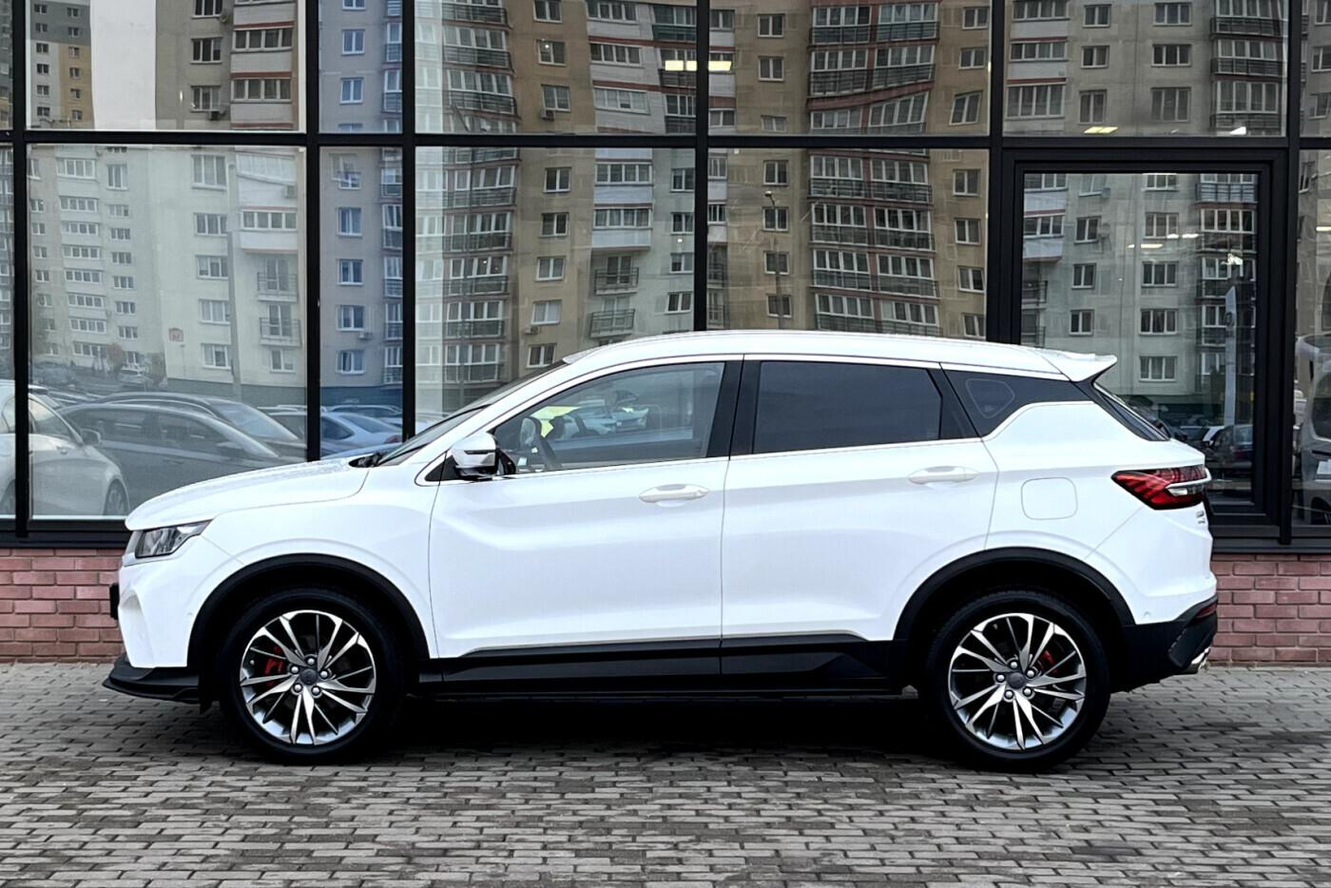Coolray_2019-2023: (89, 326, 1219, 771)
